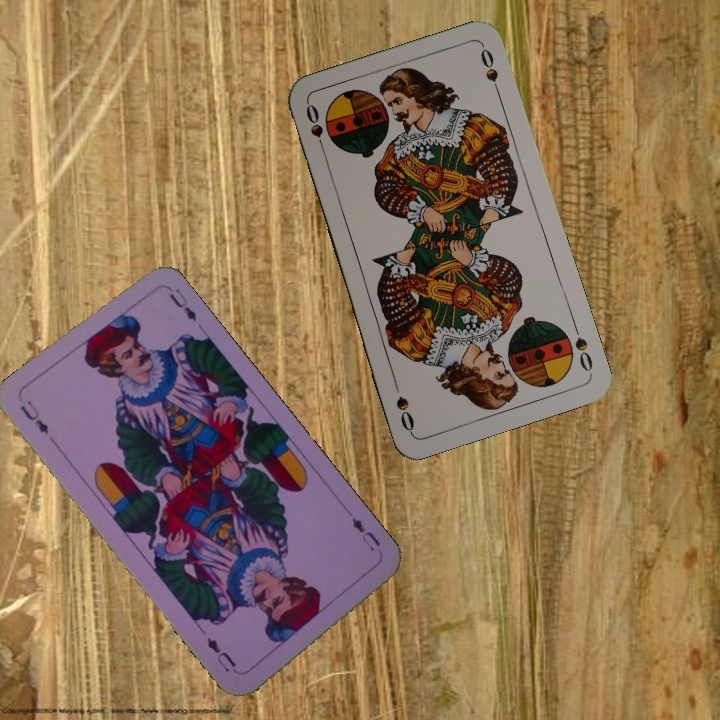EU: (15, 396, 52, 438), (347, 513, 383, 554)
SO: (302, 100, 329, 158), (569, 319, 596, 377)
